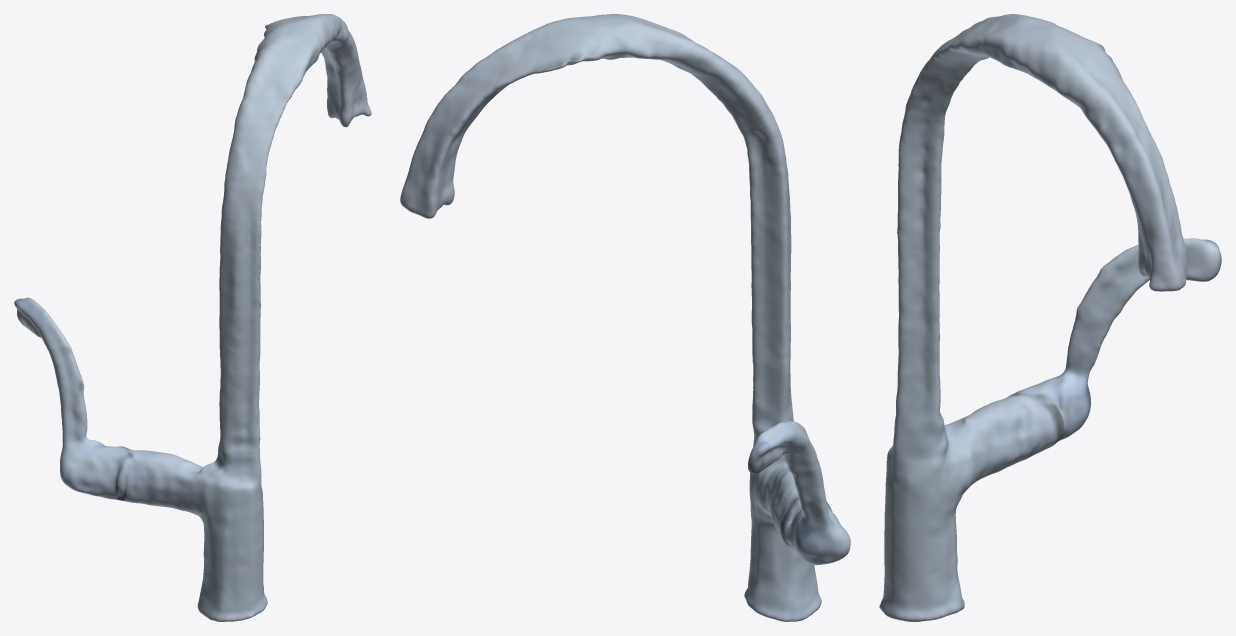
File: faucet.glb
The picture shows the model from 3 angles, left to right: view 1: azimuth 30°, elevation 25°; view 2: azimuth 150°, elevation 25°; view 3: azimuth 270°, elevation 25°; orthographic projection. The views are drawn at different scales.
Visible parts, largest first — view 1: world; view 2: world; view 3: world.
Part boxes in pixels (bbox=[...]): world: bbox=[14, 14, 371, 621]; world: bbox=[400, 14, 850, 621]; world: bbox=[879, 14, 1221, 621].
Bounding box in the file's own units: 0.3674 × 0.5271 × 0.251.
Materials: 1 (1 with a texture image).
